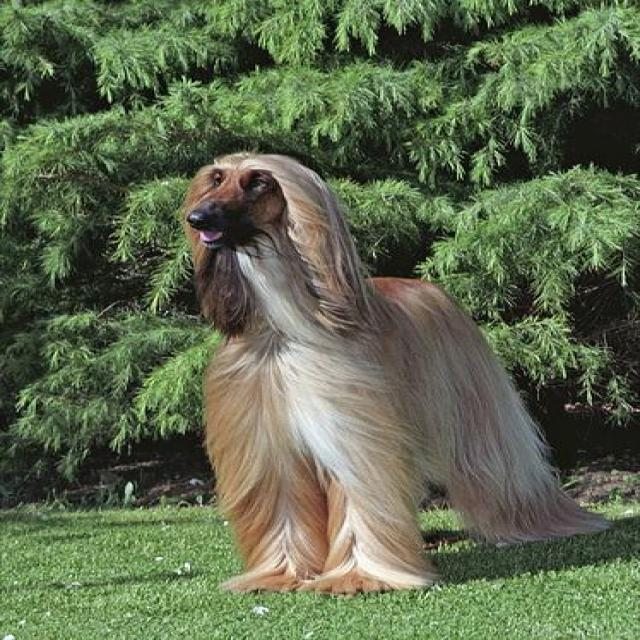afghan_hound: (176, 148, 613, 596)
